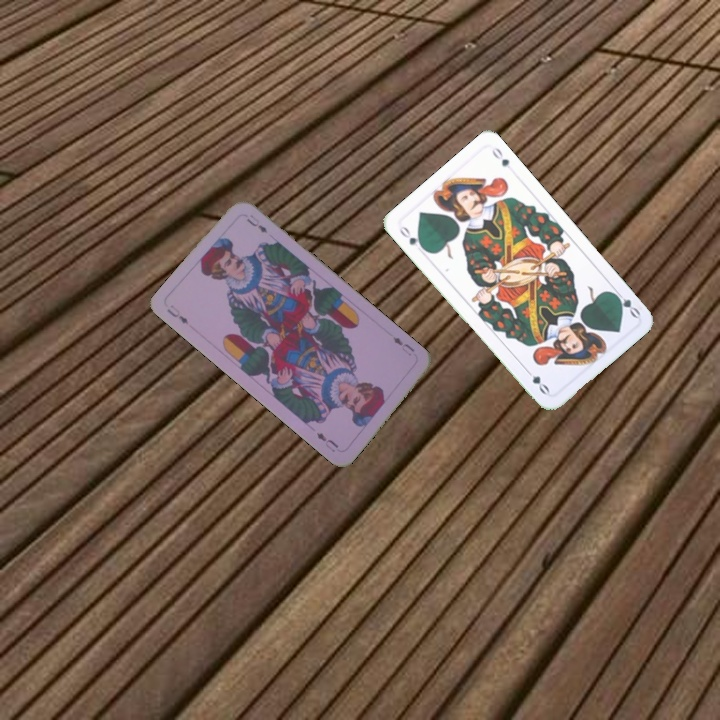EU: (389, 332, 417, 359), (163, 300, 191, 327)
GO: (608, 285, 643, 320), (395, 222, 428, 253)
